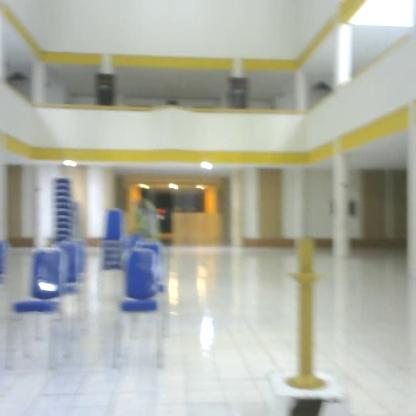pole: (278, 235, 338, 395)
